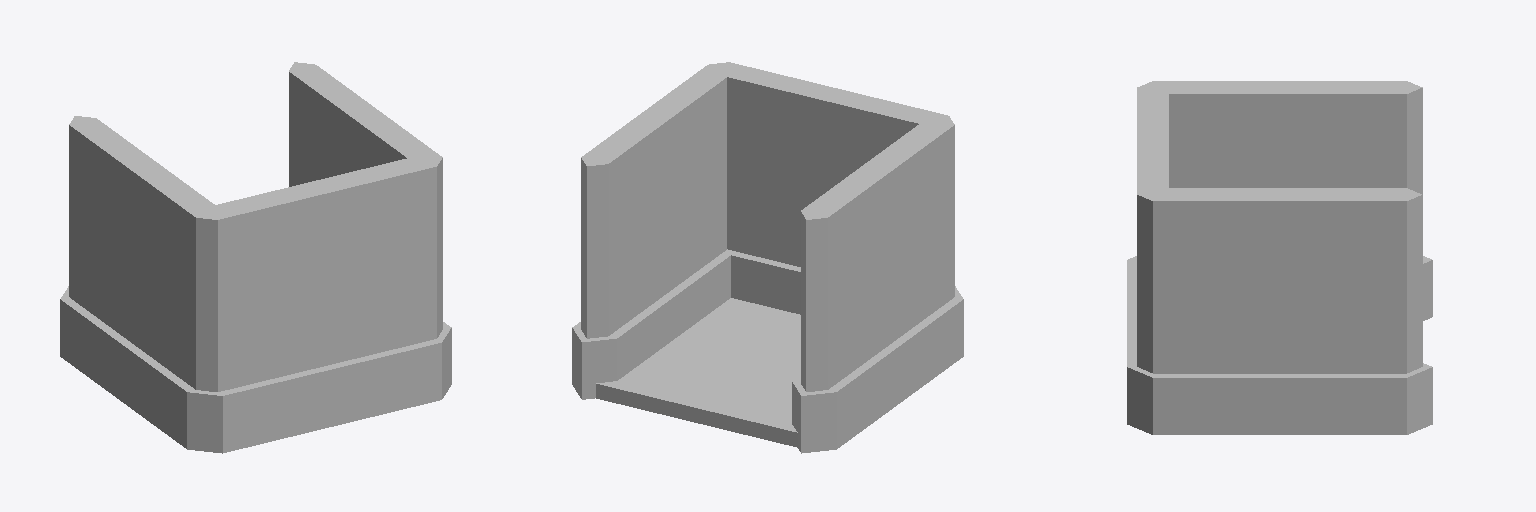
Rendered from sm_hallway_end_02.obj.
3 views of the same model, side by side, from view 1: azimuth 30°, elevation 25°; view 2: azimuth 150°, elevation 25°; view 3: azimuth 270°, elevation 25° (orthographic).
Parts seen in each view (by area): view 1: wall_01_180, wall_01_172, wall_01_176; view 2: wall_01_172, wall_01_176, wall_01_180, floor_square_169; view 3: wall_01_176, wall_01_172, wall_01_180.
Boxes of the visible parts, <box> form: wall_01_180: <box>188,155,451,452</box>; wall_01_172: <box>60,116,225,453</box>; wall_01_176: <box>289,62,451,395</box>; wall_01_172: <box>792,117,963,453</box>; wall_01_176: <box>572,62,735,399</box>; wall_01_180: <box>709,62,955,314</box>; floor_square_169: <box>596,298,800,447</box>; wall_01_176: <box>1127,188,1432,434</box>; wall_01_172: <box>1128,81,1432,320</box>; wall_01_180: <box>1127,81,1168,433</box>.
Size of the model in its own units: 1.21 by 1 by 1.21.